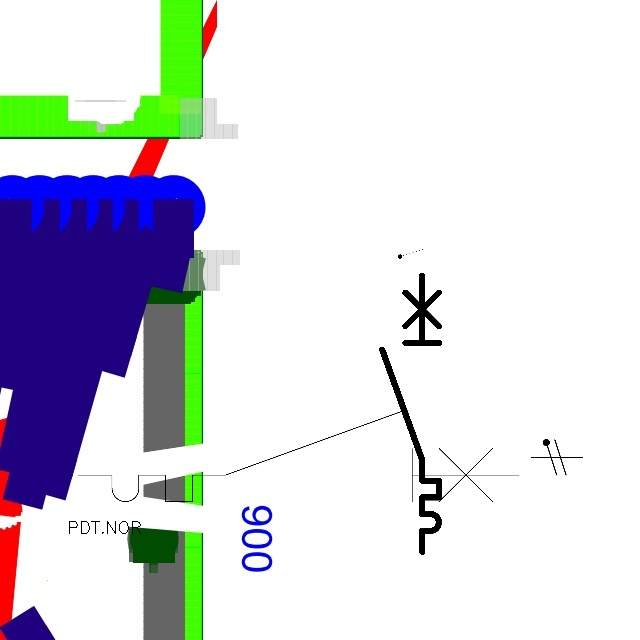interruptor_termomagnetico: (67, 400, 530, 513), (375, 268, 446, 559)
